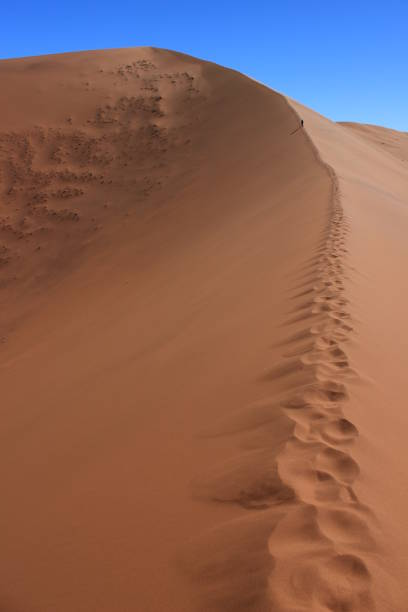human_footprint: (269, 136, 378, 611)
